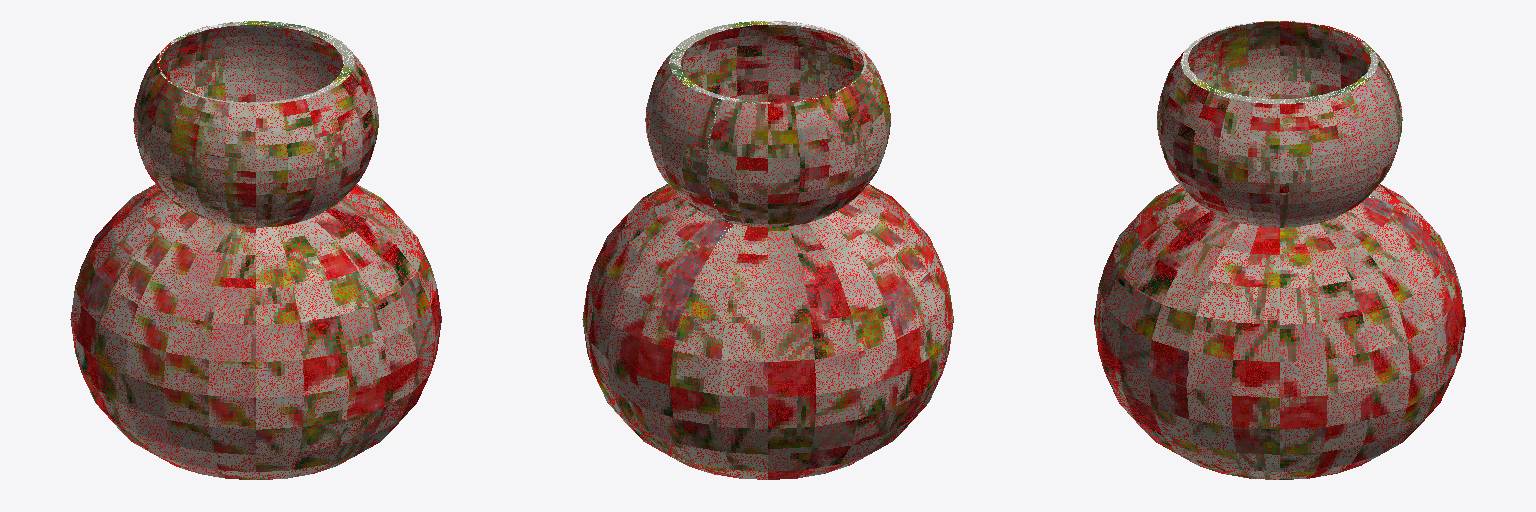
3 renders of one model, left to right at view 1: azimuth 30°, elevation 25°; view 2: azimuth 150°, elevation 25°; view 3: azimuth 270°, elevation 25°, orthographic.
Parts seen in each view (by area): view 1: mesh1_mesh1-geometry; view 2: mesh1_mesh1-geometry; view 3: mesh1_mesh1-geometry.
Boxes of the visible parts, x1=… form: mesh1_mesh1-geometry: x1=70, y1=21, x2=441, y2=479; mesh1_mesh1-geometry: x1=582, y1=21, x2=953, y2=479; mesh1_mesh1-geometry: x1=1094, y1=21, x2=1465, y2=479.
Size of the model in its own units: 0.5485 by 0.6301 by 0.5497.
Materials: 4 (1 with a texture image).